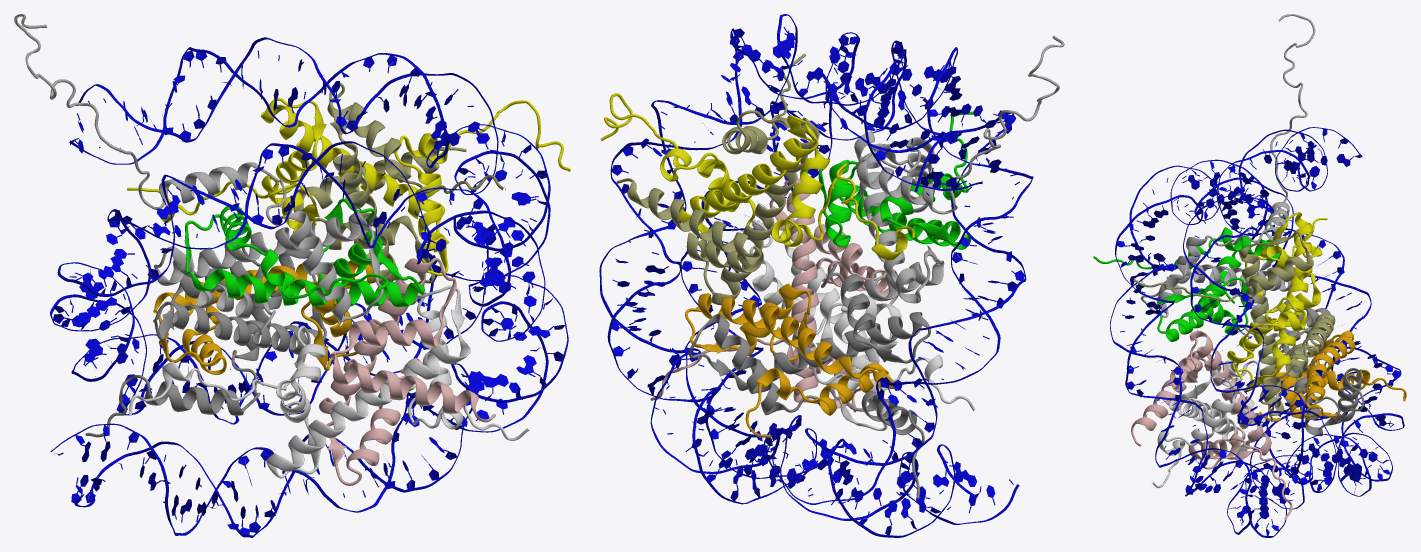
Rendered from nucleosome.glb.
The picture shows the model from 3 angles, left to right: view 1: azimuth 30°, elevation 25°; view 2: azimuth 150°, elevation 25°; view 3: azimuth 270°, elevation 25°; orthographic projection. The views are drawn at different scales.
Parts seen in each view (by area): view 1: vmd_mol0_rep0, vmd_mol0_rep1; view 2: vmd_mol0_rep0, vmd_mol0_rep1; view 3: vmd_mol0_rep0, vmd_mol0_rep1.
Part boxes in pixels (x1,y1,x2,y2): vmd_mol0_rep0: (14,14,570,485); vmd_mol0_rep1: (50,37,568,537); vmd_mol0_rep0: (600,35,1064,499); vmd_mol0_rep1: (599,14,1033,537); vmd_mol0_rep0: (1093,14,1406,519); vmd_mol0_rep1: (1110,127,1404,537).
Bounding box in the file's own units: 2 × 2.07 × 1.43.
